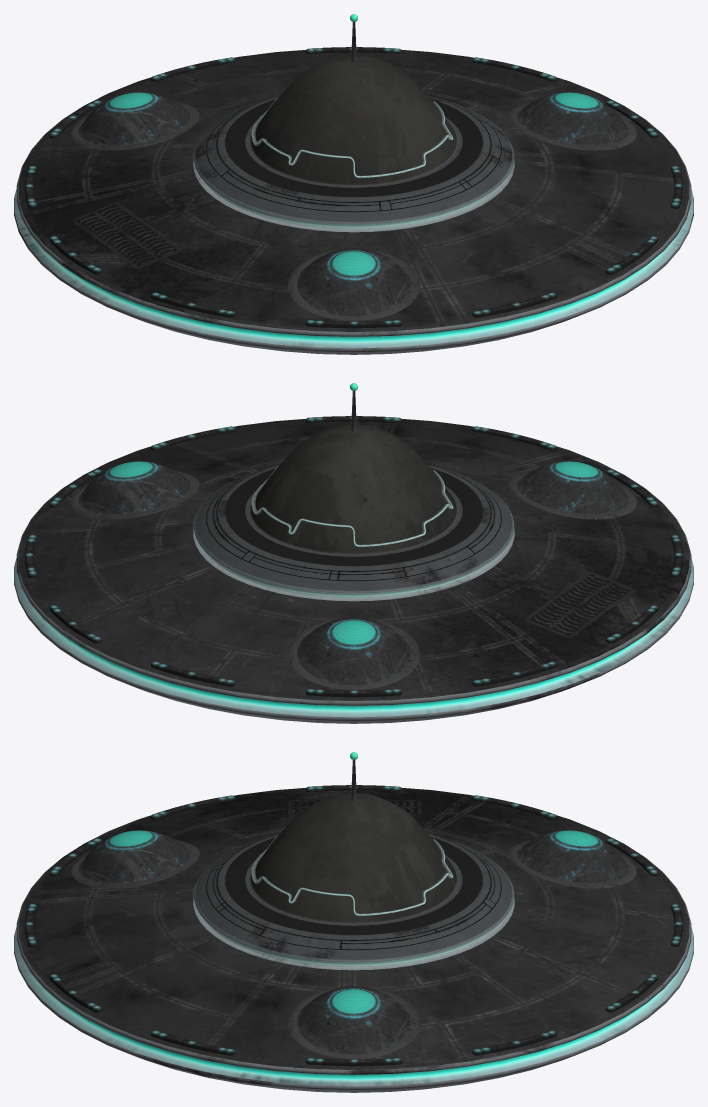
The model's file is UFO_Alpha.dae.
3 views of the same model, one above another, from view 1: azimuth 30°, elevation 25°; view 2: azimuth 150°, elevation 25°; view 3: azimuth 270°, elevation 25° (orthographic).
Visible parts, largest first — view 1: Flying_Saucer; view 2: Flying_Saucer; view 3: Flying_Saucer.
Part boxes in pixels (<box>): Flying_Saucer: <box>14,14,693,354</box>; Flying_Saucer: <box>14,383,693,723</box>; Flying_Saucer: <box>14,752,693,1092</box>.
Size of the model in its own units: 0.3893 by 0.1604 by 0.3887.
1 material, 1 textured.
